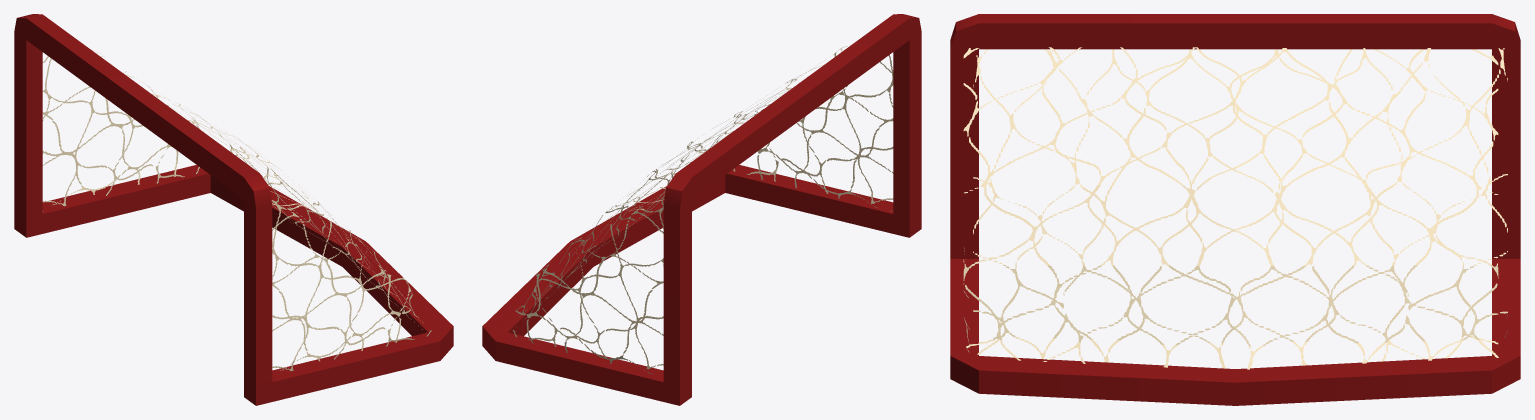
Rendered from Goal_Mesh.fbx.
3 views of the same model, side by side, from view 1: azimuth 30°, elevation 25°; view 2: azimuth 150°, elevation 25°; view 3: azimuth 270°, elevation 25° (orthographic). The views are drawn at different scales.
Parts seen in each view (by area): view 1: Goal_Mesh; view 2: Goal_Mesh; view 3: Goal_Mesh.
Part boxes in pixels (x1=…): Goal_Mesh: x1=14, y1=14, x2=453, y2=405; Goal_Mesh: x1=482, y1=14, x2=921, y2=405; Goal_Mesh: x1=950, y1=14, x2=1520, y2=405.
Size of the model in its own units: 372 by 338 by 674.
